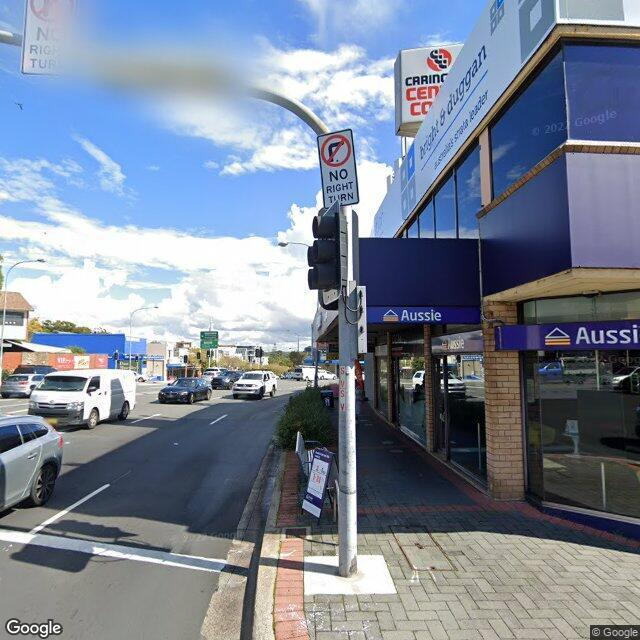steel-pole: (339, 207, 359, 578), (0, 276, 8, 382), (314, 341, 319, 387), (130, 312, 131, 371), (115, 350, 118, 369), (136, 354, 138, 372), (209, 349, 210, 367), (298, 334, 299, 351)
streetlight: (6, 258, 48, 278), (131, 306, 159, 315), (278, 242, 310, 248), (286, 329, 298, 336)
traffic-light: (307, 206, 340, 309), (255, 349, 261, 358), (113, 352, 119, 360), (184, 354, 188, 364), (260, 349, 264, 357), (207, 350, 210, 358), (197, 352, 200, 359), (211, 350, 214, 357), (135, 356, 138, 362)
